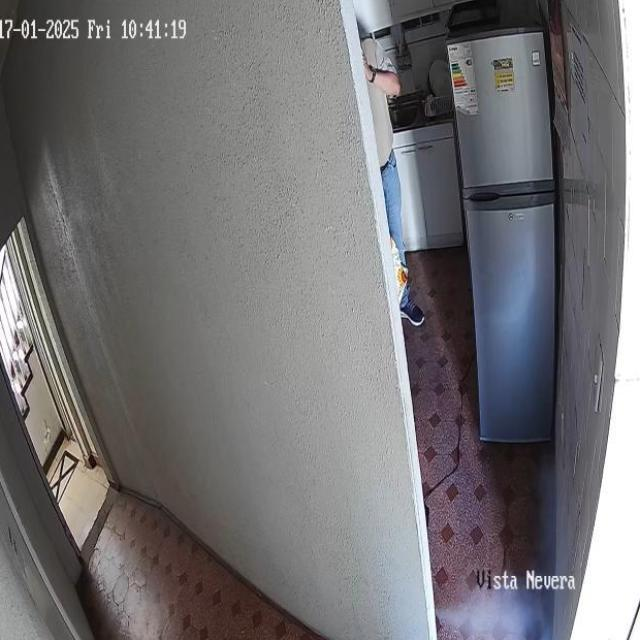fire: (432, 573, 575, 640)
